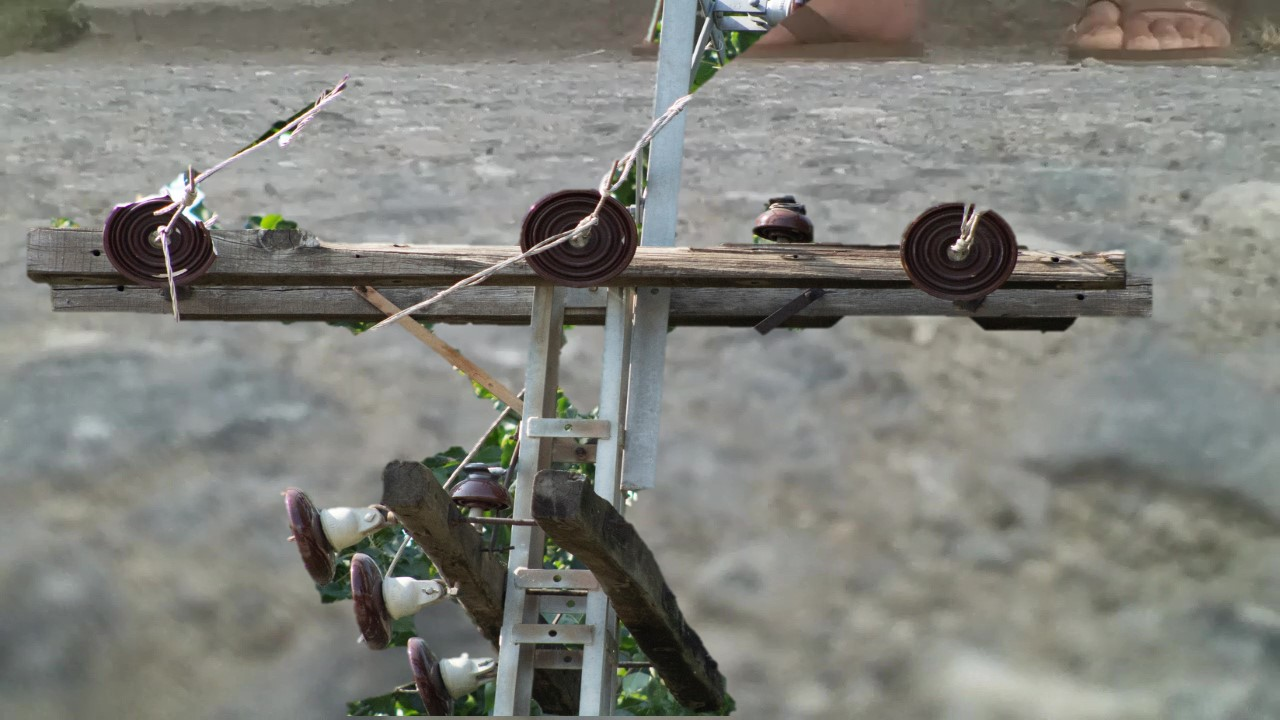defect_disc: (100, 184, 222, 288)
insulator_disc: (901, 193, 1024, 307), (519, 184, 642, 293), (399, 627, 496, 716), (278, 477, 346, 601), (345, 547, 407, 660)
insulator_pin: (751, 192, 819, 250), (449, 457, 514, 516)
